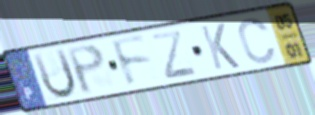C: (236, 16, 278, 66)
F: (108, 33, 155, 90)
K: (198, 21, 242, 72)
P: (64, 42, 108, 97)
U: (30, 46, 79, 102)
Z: (149, 28, 200, 81)
